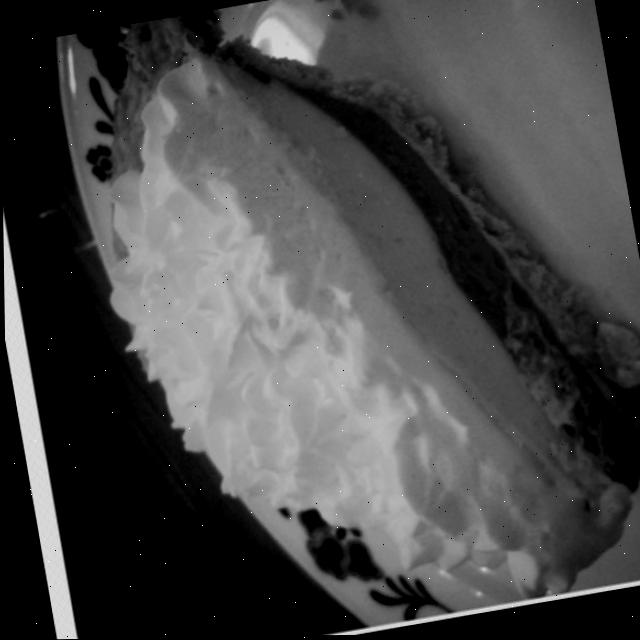蛋糕甜品: (41, 0, 640, 640)
